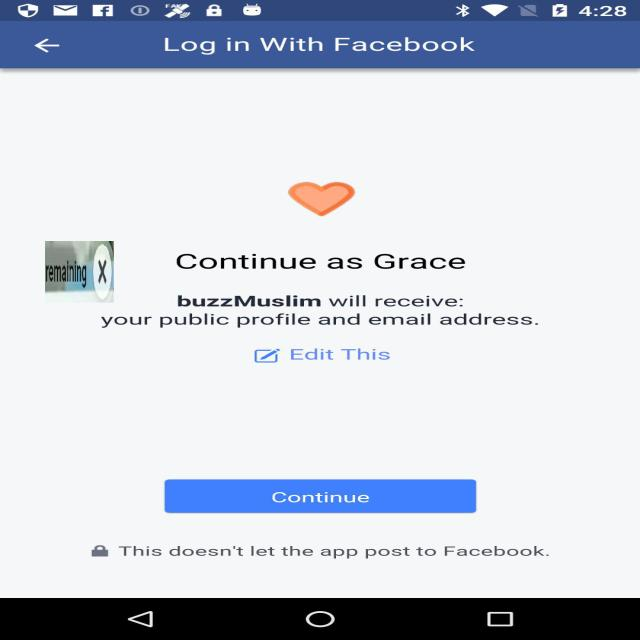misdirection: (45, 241, 114, 303)
